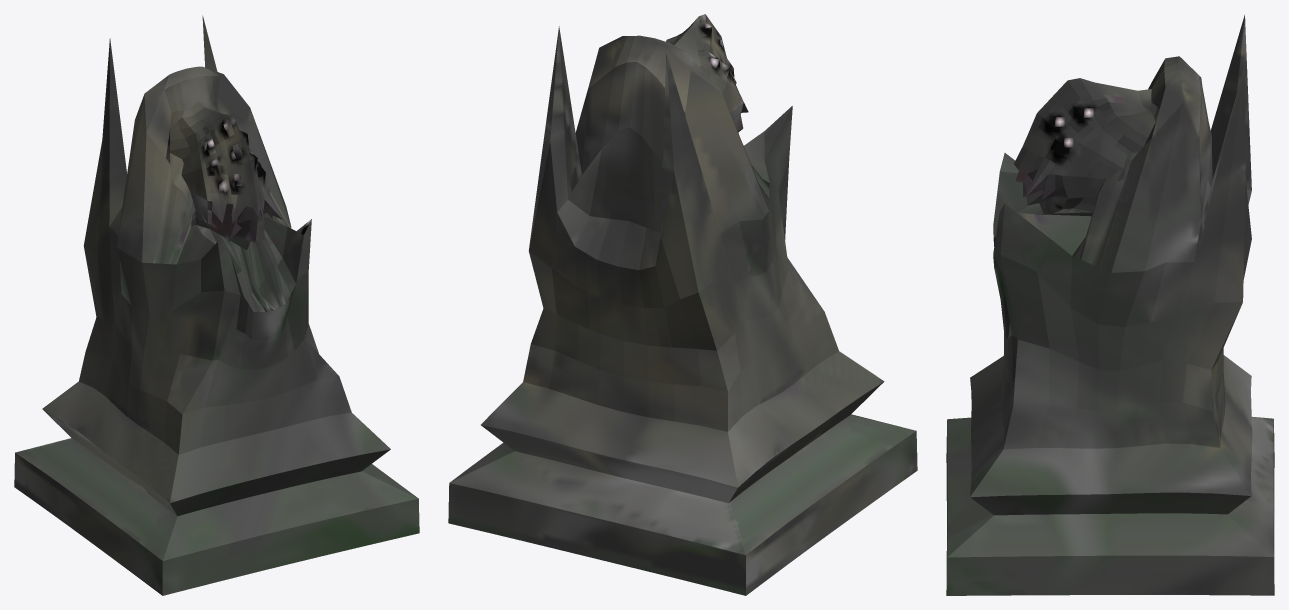
The model's file is statue001.fbx.
3 renders of one model, left to right at view 1: azimuth 30°, elevation 25°; view 2: azimuth 150°, elevation 25°; view 3: azimuth 270°, elevation 25°, orthographic. The views are drawn at different scales.
Parts seen in each view (by area): view 1: Cube; view 2: Cube; view 3: Cube.
Boxes of the visible parts, x1,y1,x2,y2 form: Cube: (14,15,419,595); Cube: (448,14,917,595); Cube: (946,15,1274,595).
Bounding box in the file's own units: 273 × 447 × 273.
